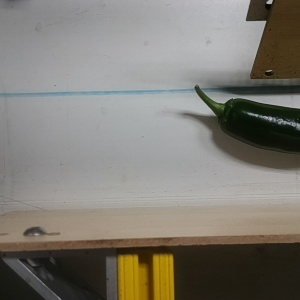Cut Point: (209, 93, 248, 137)
